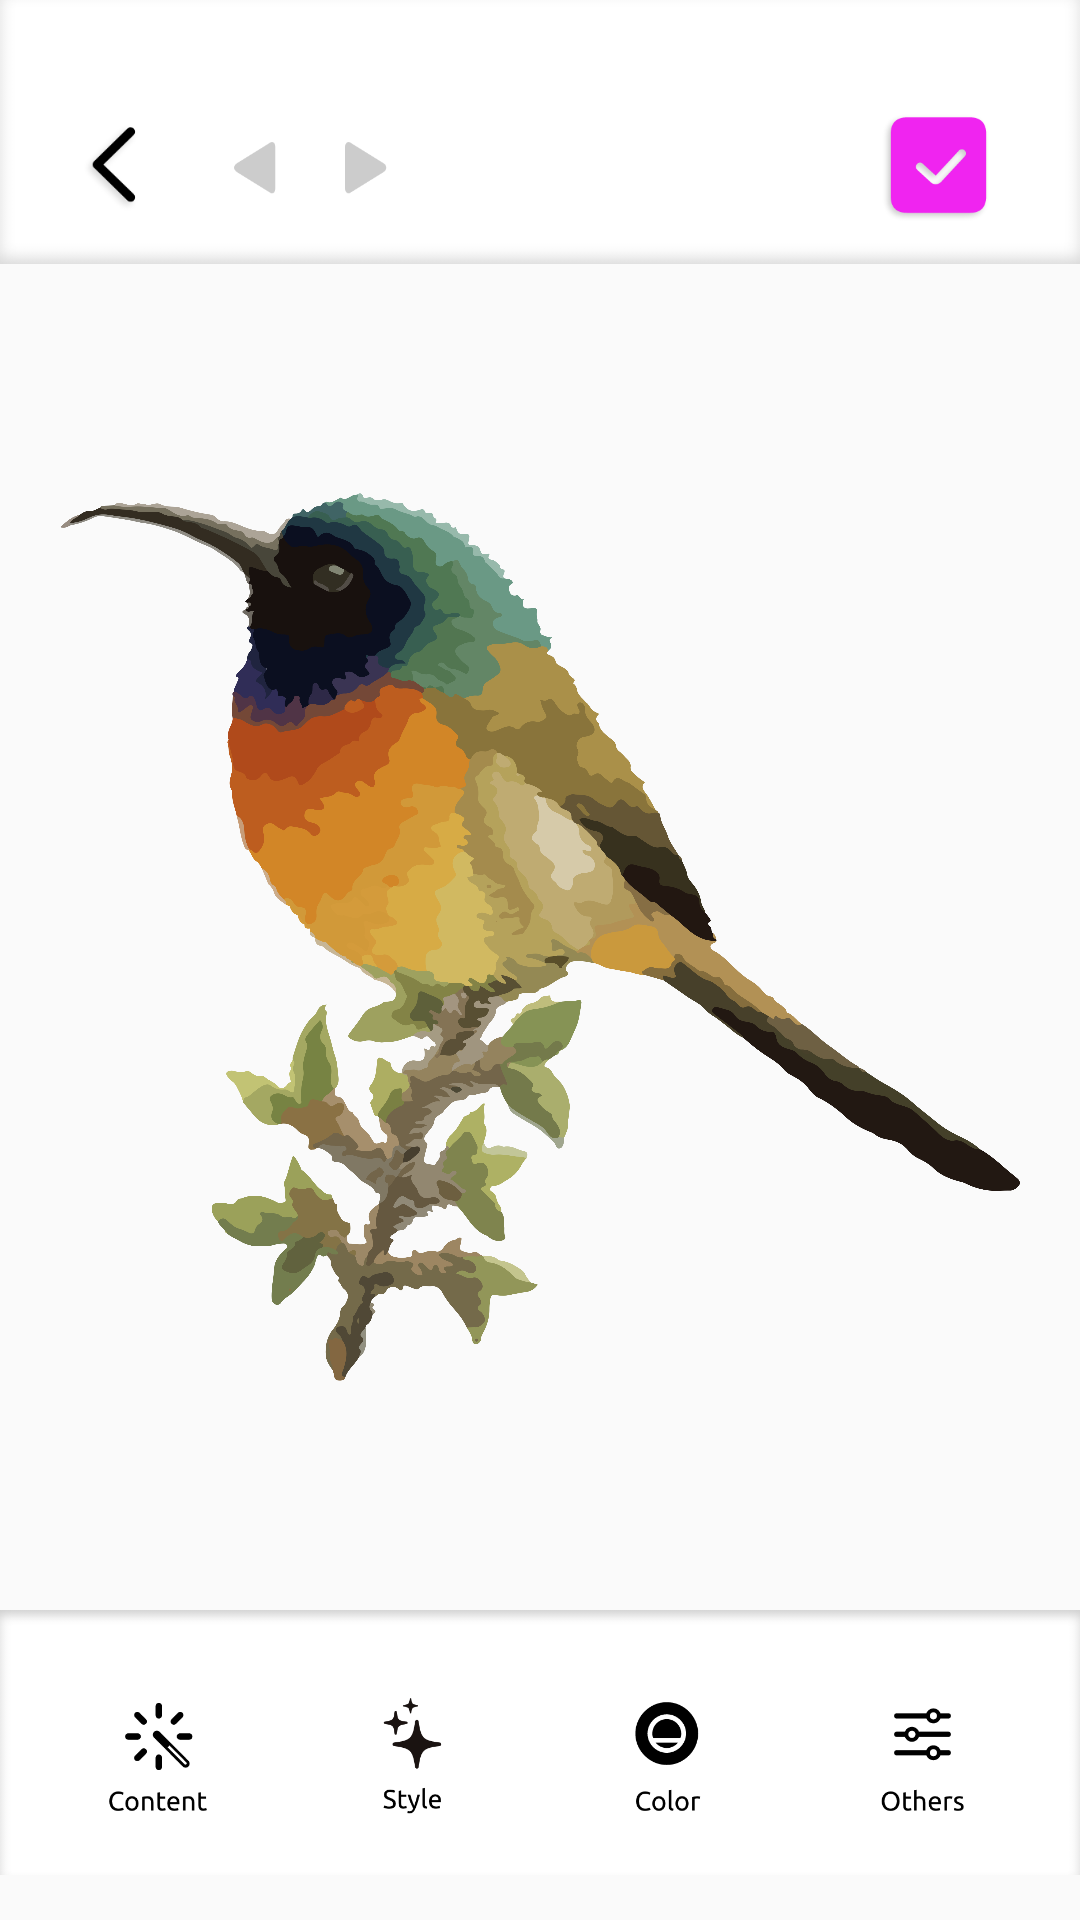

Named icons in this screenshot (1080*1920) and their centers, (x,y):
back: (113,165)
continue: (937,166)
